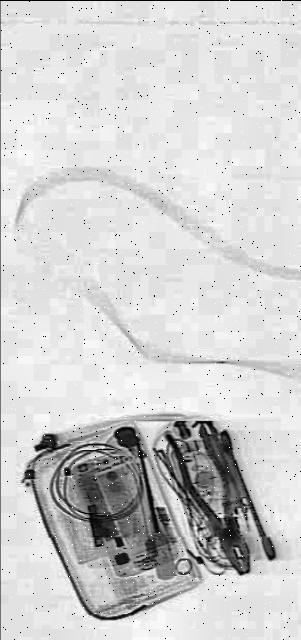Pliers: (162, 392, 260, 598)
